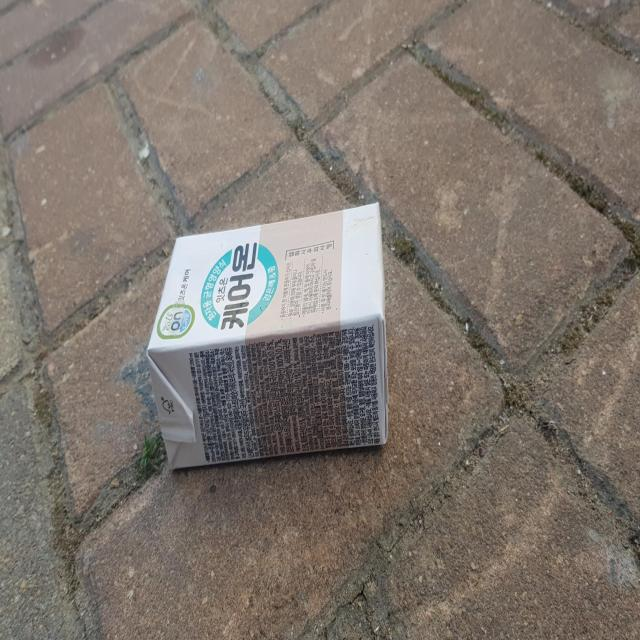paperpack: (147, 201, 389, 468)
